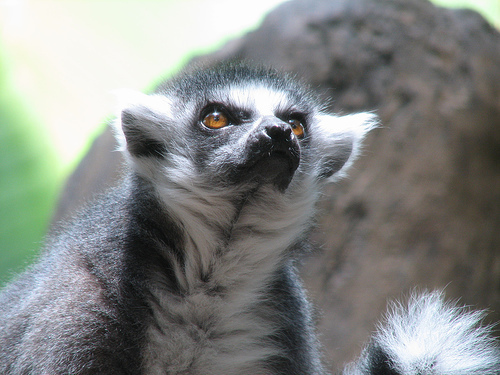cat: (1, 45, 499, 373)
